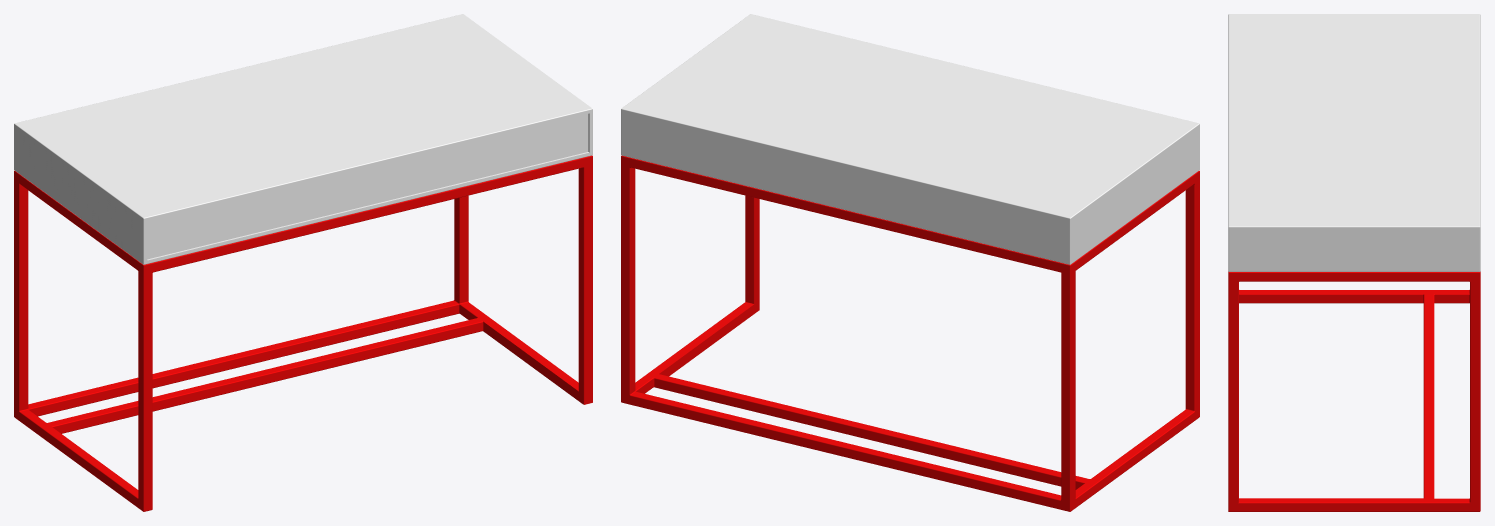
Rendered from Modern table.glb.
The picture shows the model from 3 angles, left to right: view 1: azimuth 30°, elevation 25°; view 2: azimuth 150°, elevation 25°; view 3: azimuth 270°, elevation 25°; orthographic projection. The views are drawn at different scales.
Parts seen in each view (by area): view 1: Solid1:1, Solid1, Solid1:2; view 2: Solid1:1, Solid1; view 3: Solid1:1, Solid1.
Boxes of the visible parts, x1=… form: Solid1:1: x1=14, y1=14, x2=592, y2=264; Solid1: x1=14, y1=155, x2=592, y2=511; Solid1:2: x1=147, y1=114, x2=588, y2=259; Solid1:1: x1=621, y1=14, x2=1199, y2=264; Solid1: x1=621, y1=155, x2=1199, y2=511; Solid1:1: x1=1228, y1=14, x2=1480, y2=271; Solid1: x1=1228, y1=271, x2=1480, y2=511.
Size of the model in its own units: 1.2 by 0.75 by 0.6.
